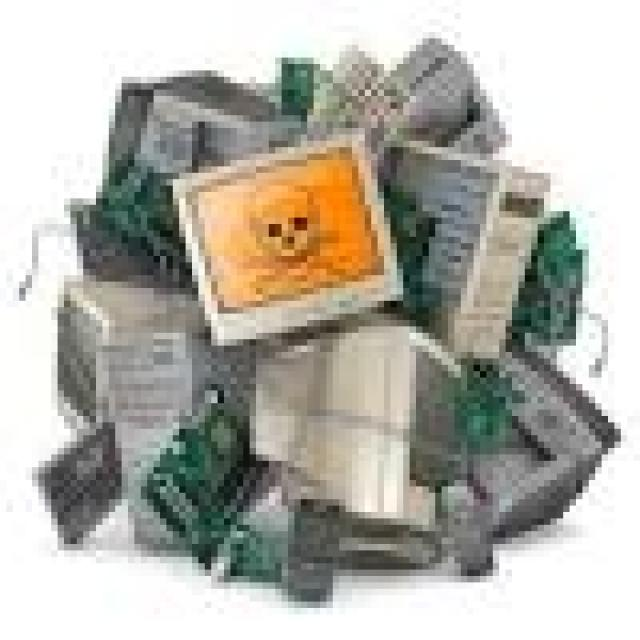Hazard: (60, 53, 638, 594)
